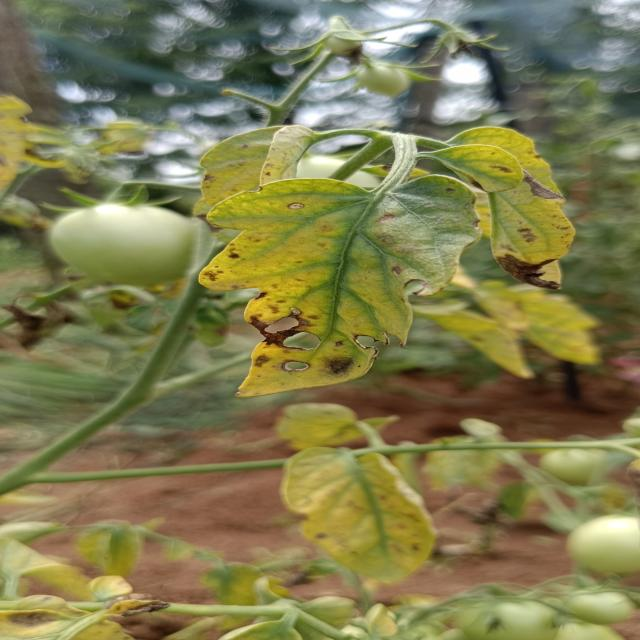tomato_early blight: (197, 175, 487, 399), (426, 143, 618, 285), (273, 441, 456, 586), (454, 268, 615, 376), (412, 289, 548, 385), (183, 125, 306, 227), (440, 123, 584, 201)
